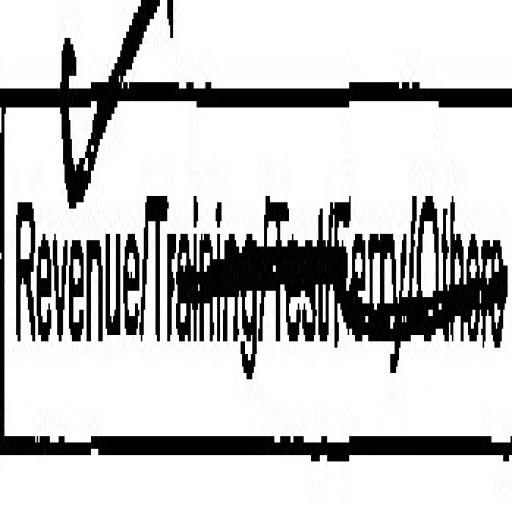check: (0, 0, 145, 468)
